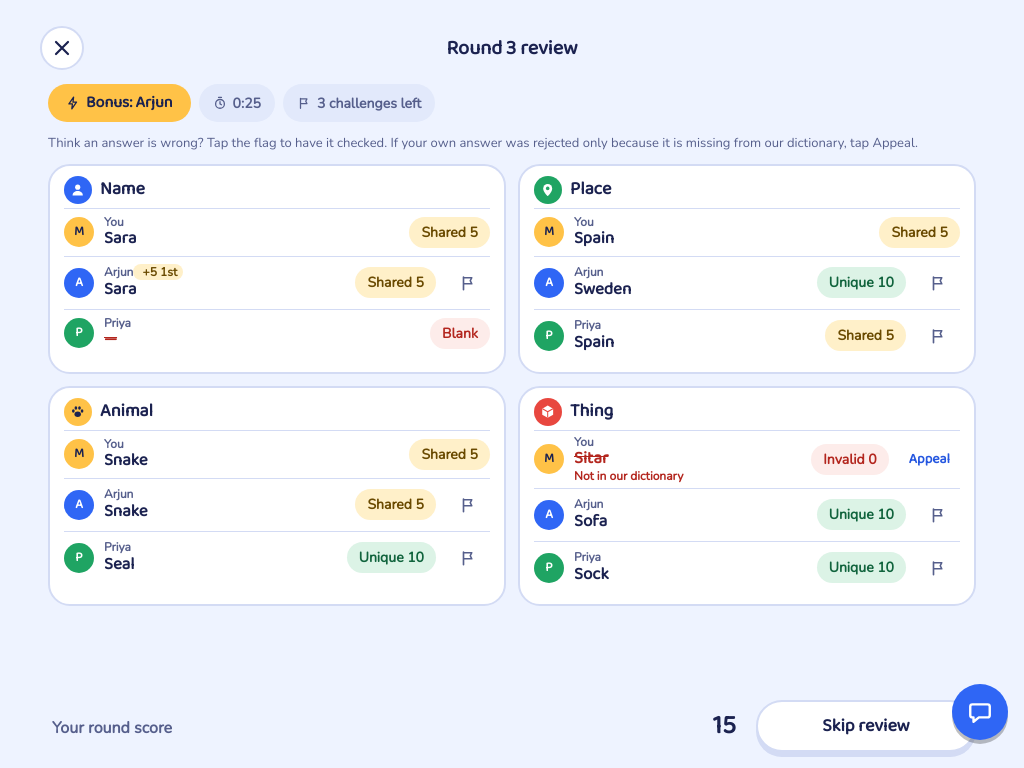
Test: challenges and appeals › a refused challenge shows why and keeps the dialog open
Step 1. Click the button named "Challenge Sweden" → [938, 282], box x1=916 y1=260 x2=960 y2=304
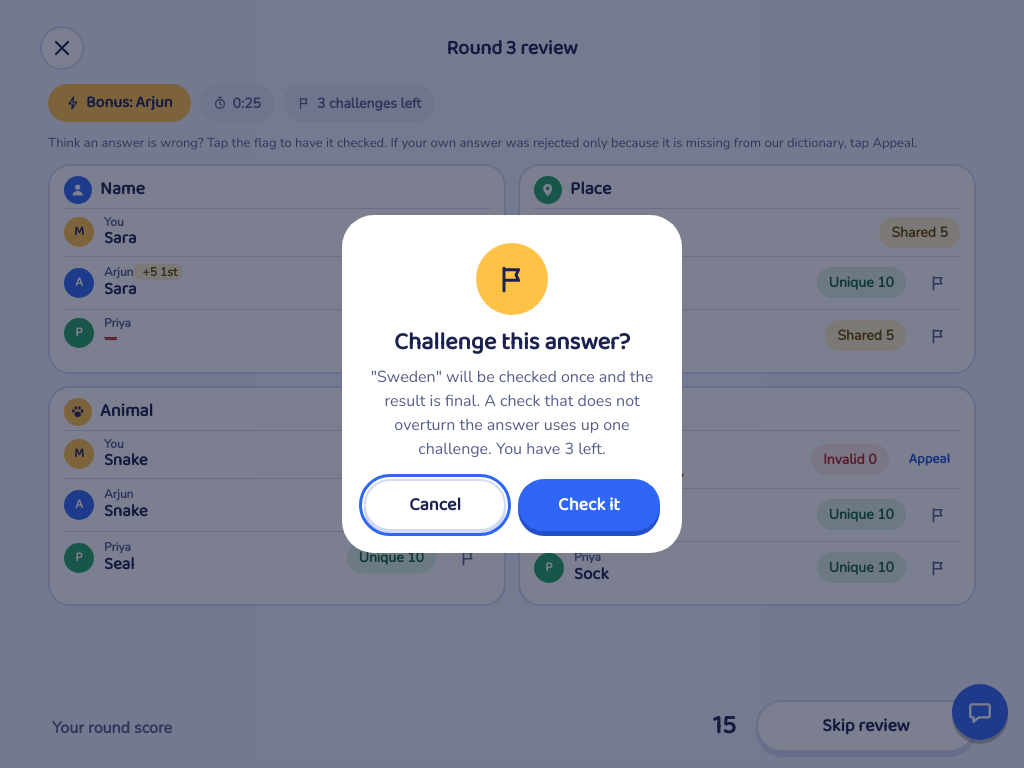
Step 2. Click the button "Check it" → [589, 505], box x1=518 y1=479 x2=660 y2=531
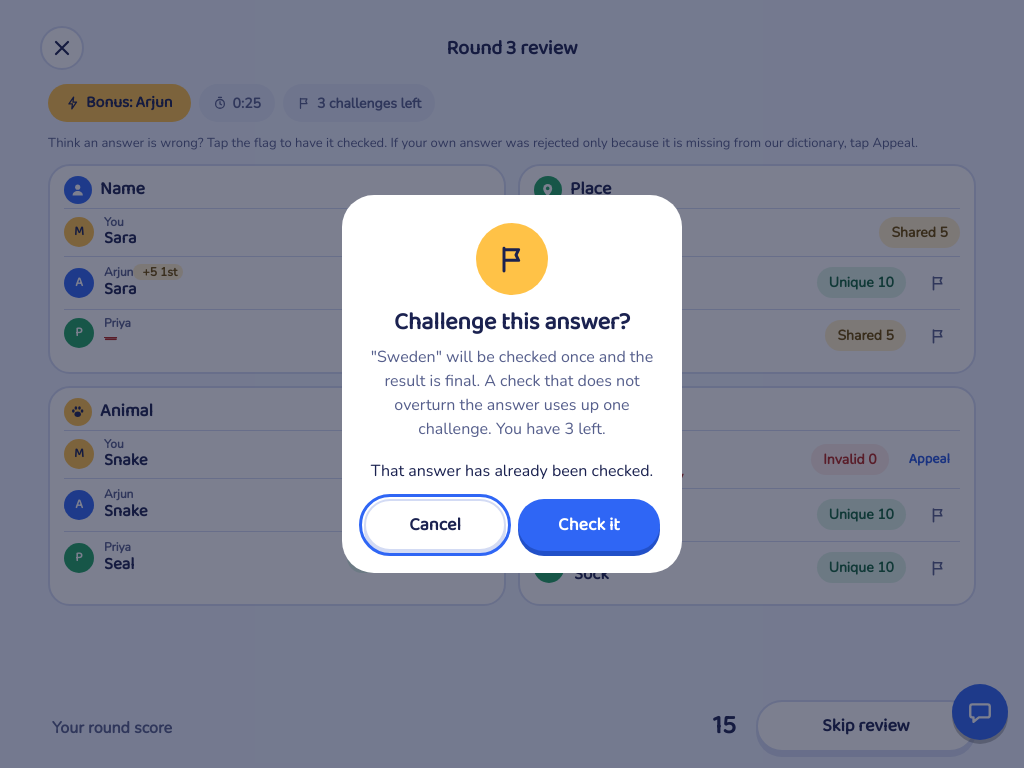
Expected: the message shows "already been checked", x1=371 y1=460 x2=653 y2=482
